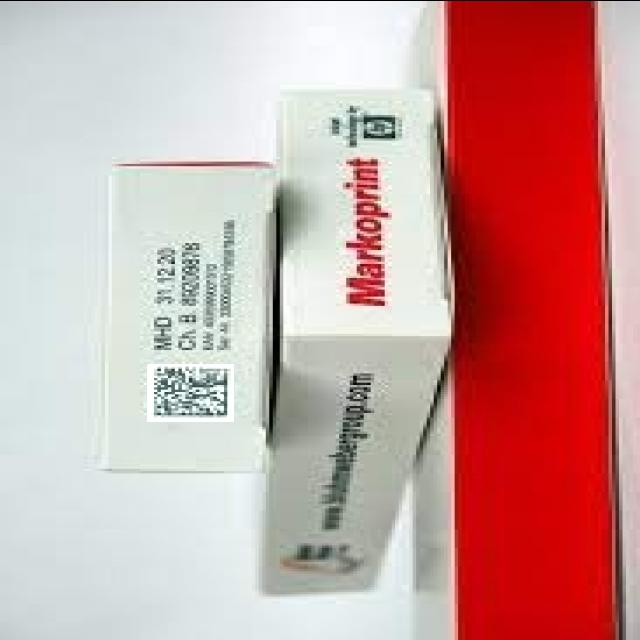DataMatrix: (147, 363, 234, 421)
